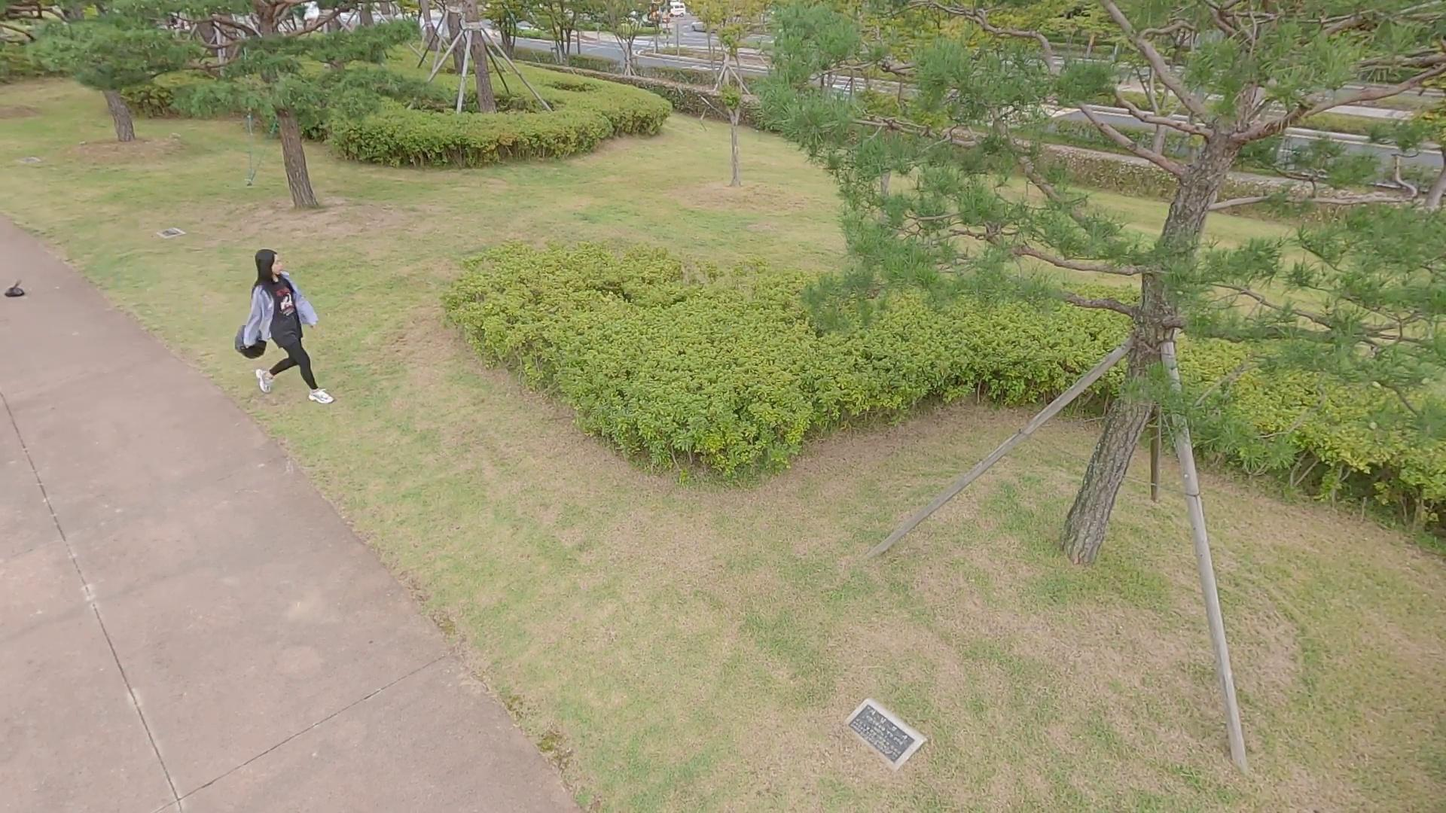person: (232, 248, 332, 413)
trash: (234, 323, 274, 366), (4, 278, 30, 309)
